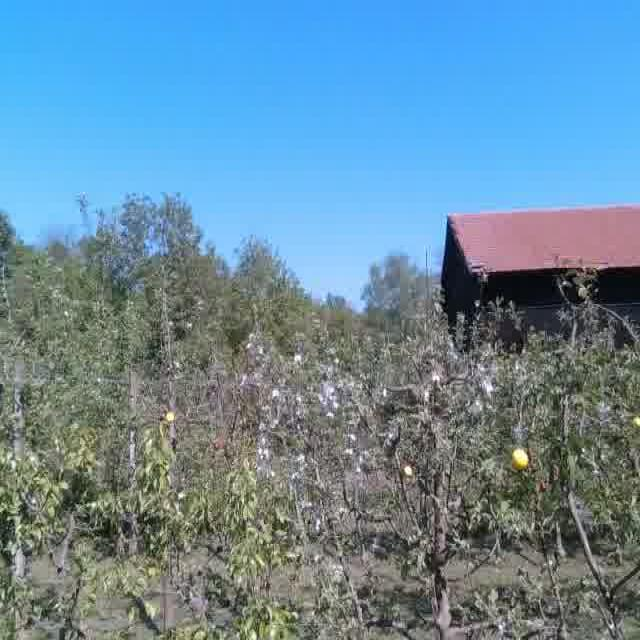yellow: (510, 446, 533, 472), (401, 463, 414, 477), (164, 410, 175, 424)
